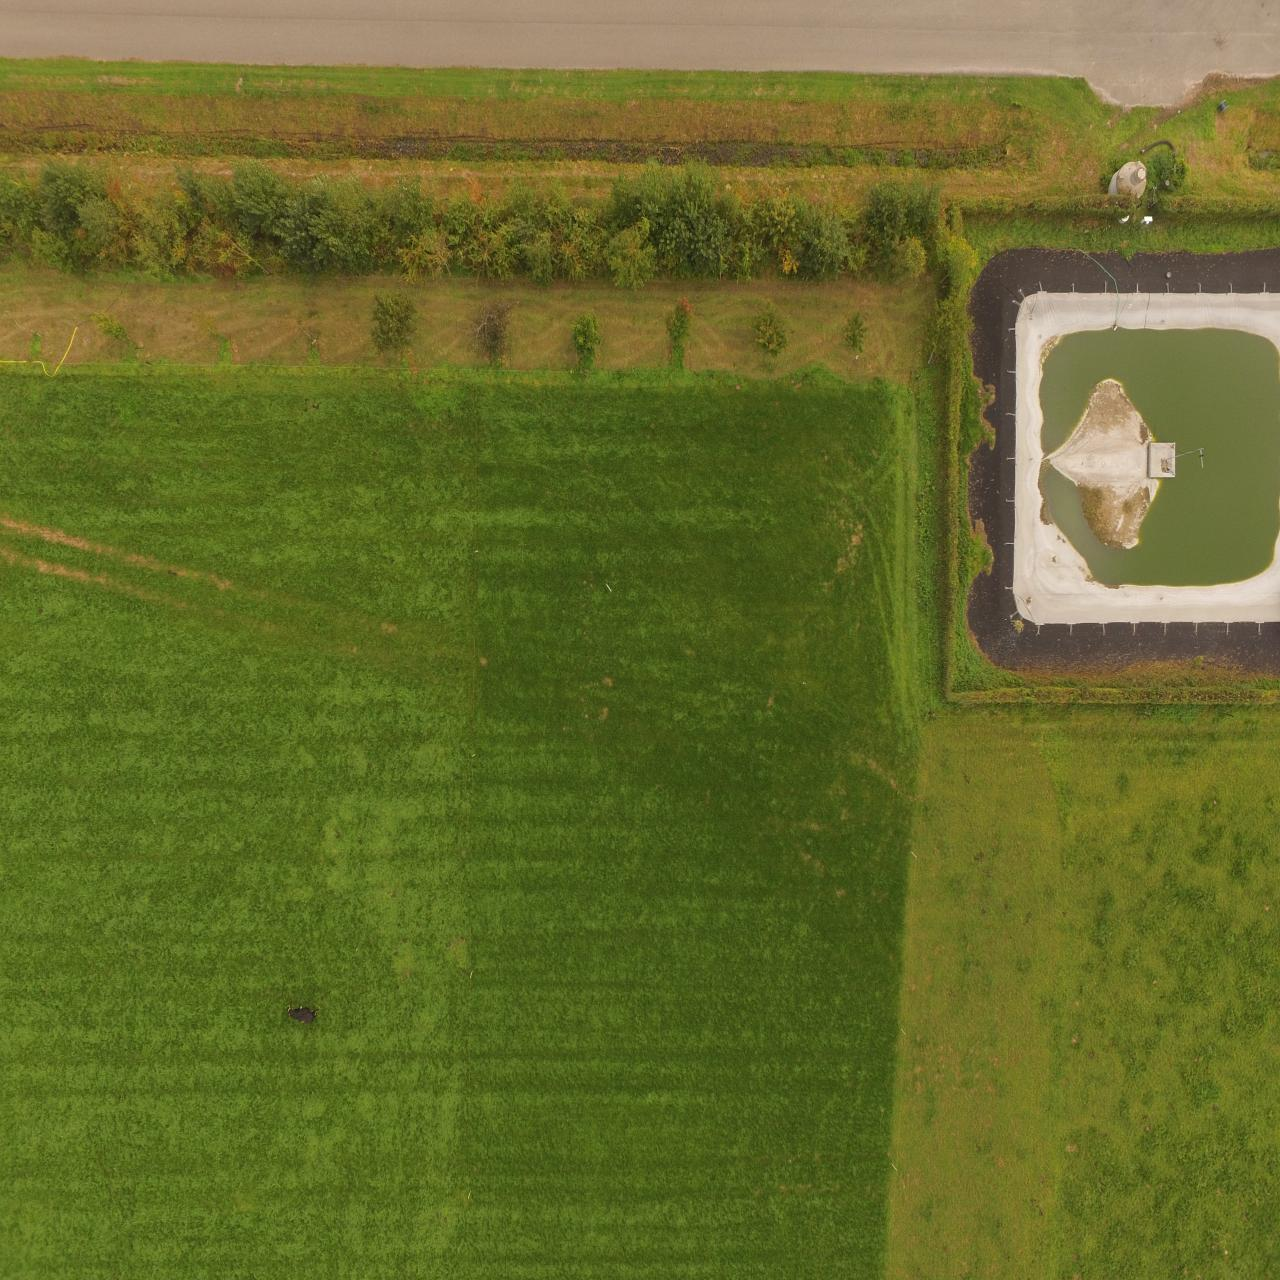cow: (286, 1005, 324, 1024)
